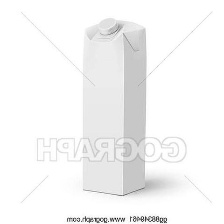carton: (75, 14, 152, 199)
